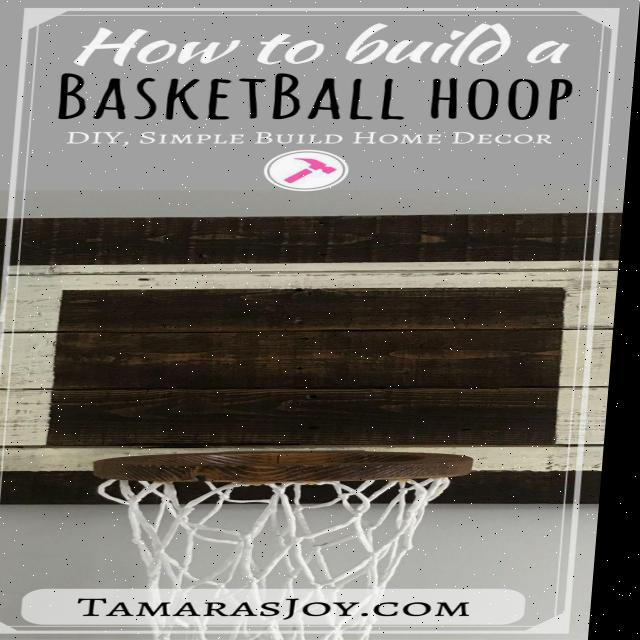hoop: (80, 451, 474, 640)
